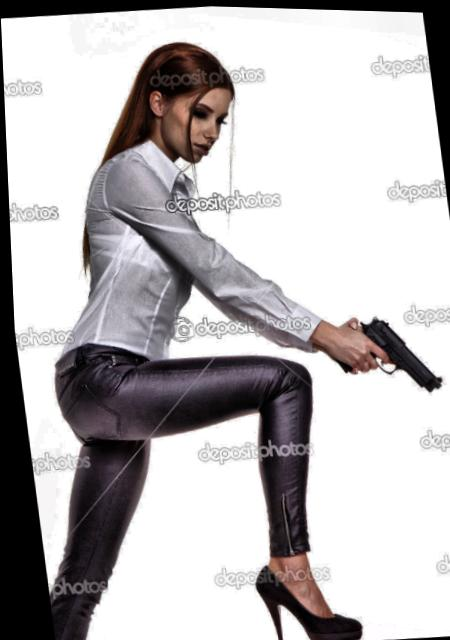pistol: (334, 306, 444, 394)
